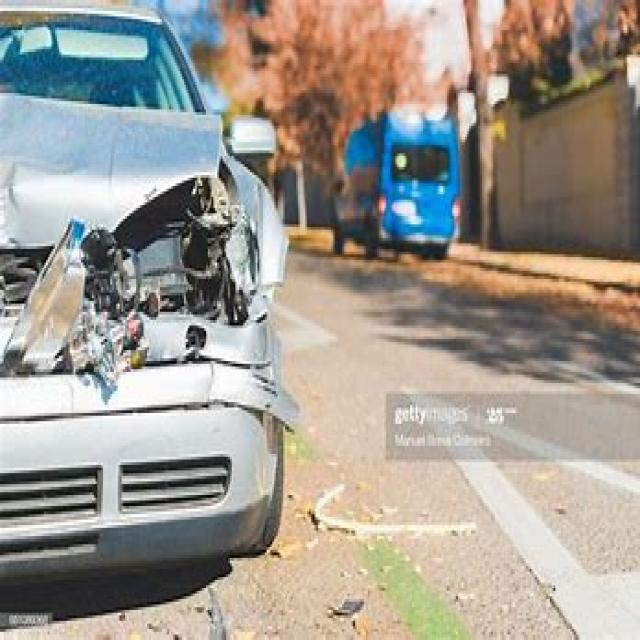Accident: (23, 41, 566, 596)
